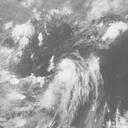cyclone: (48, 57, 101, 112)
